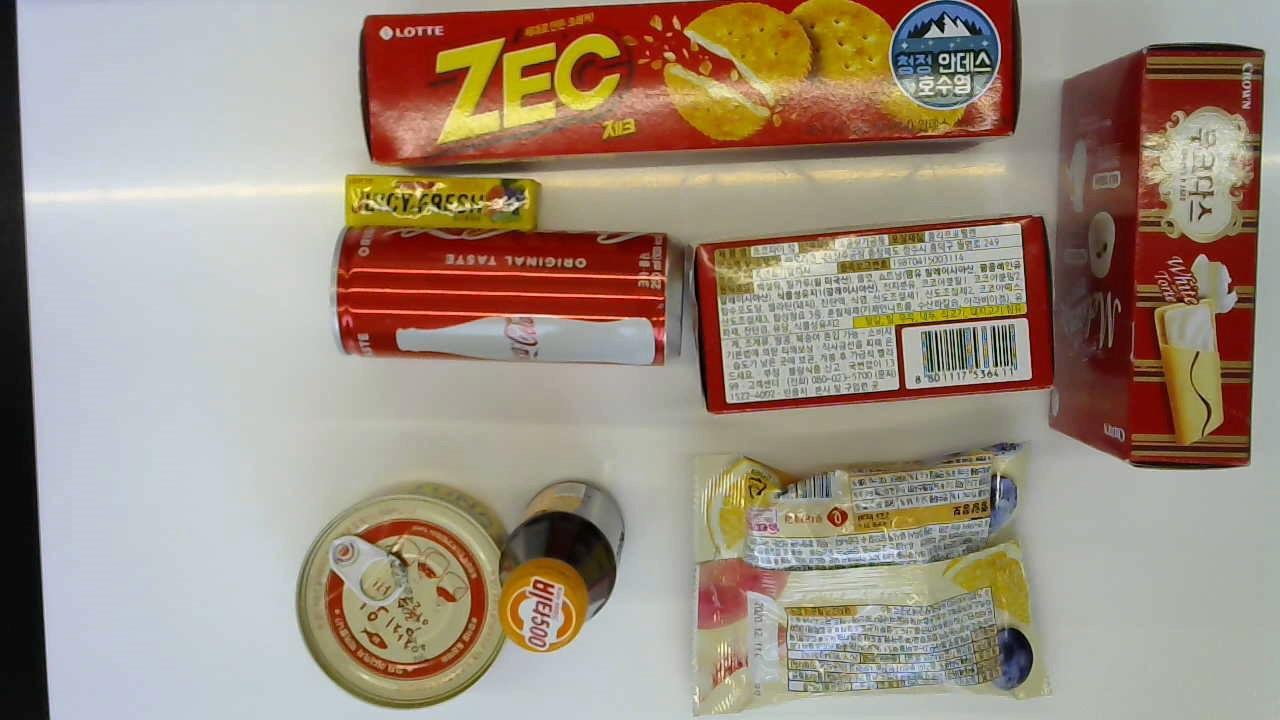coke: (333, 223, 690, 368)
couque_coffee: (693, 221, 1052, 410)
couque_white: (1050, 44, 1265, 478)
gumi_gumi: (688, 452, 1041, 715)
juicyfresh: (339, 170, 543, 231)
tuna: (288, 483, 505, 706)
vita500: (489, 476, 623, 650)
zec: (358, 0, 1023, 168)
